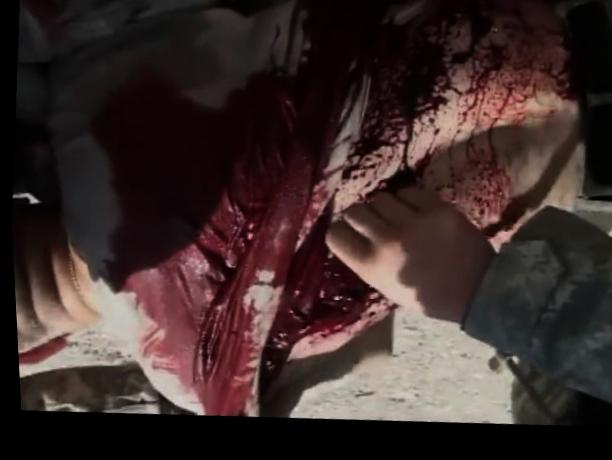Fire: (94, 0, 569, 418), (19, 0, 68, 27)
